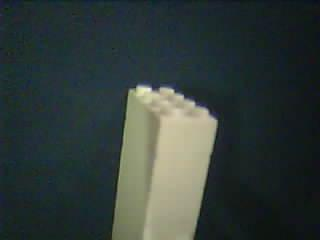lego: (110, 85, 218, 240)
